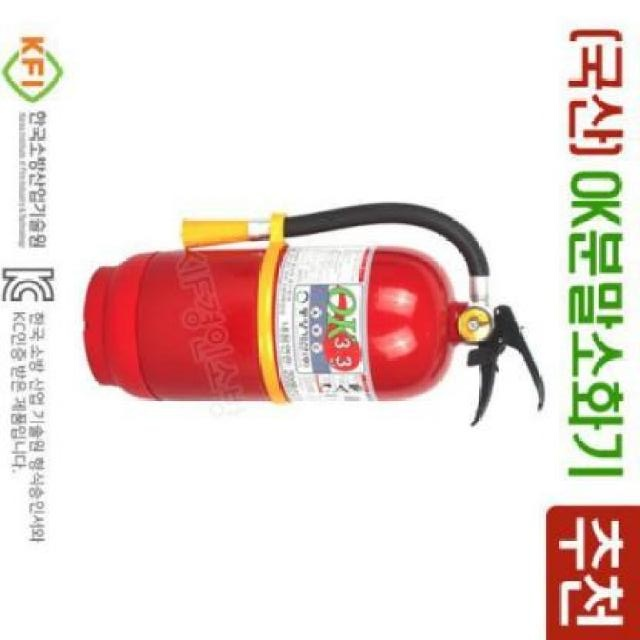fire extinguisher: (82, 201, 547, 428)
